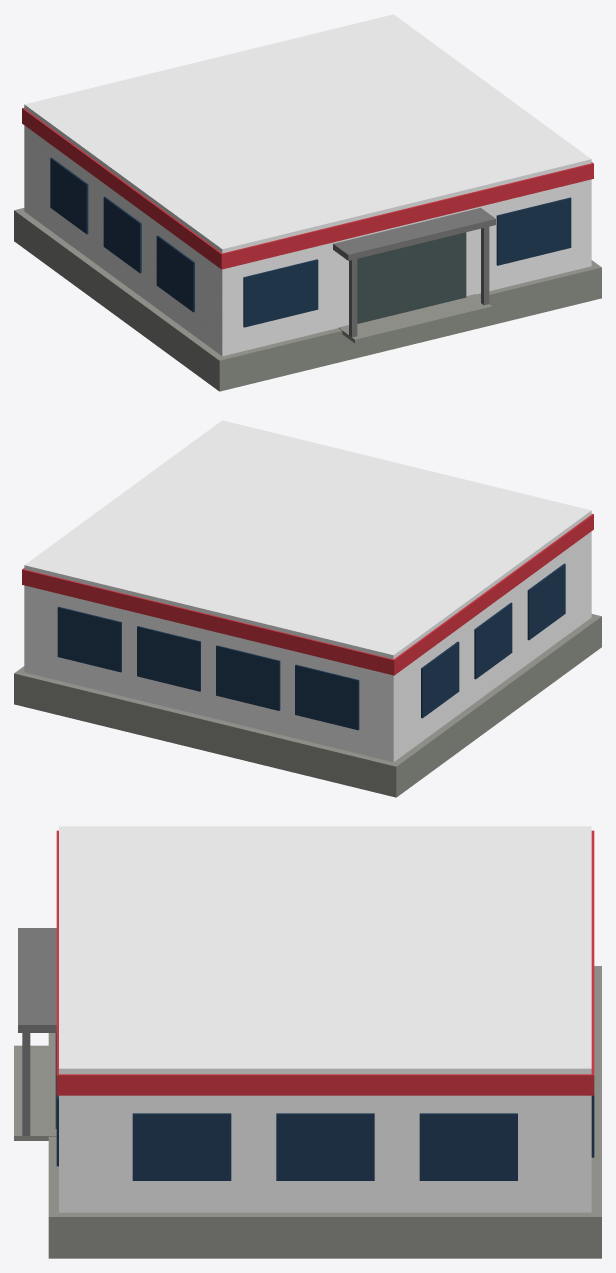
File: mashup-main-base-prebuilt.fbx
The picture shows the model from 3 angles, top to bottom: view 1: azimuth 30°, elevation 25°; view 2: azimuth 150°, elevation 25°; view 3: azimuth 270°, elevation 25°; orthographic projection. The views are drawn at different scales.
Parts seen in each view (by area): view 1: a1052.MainBase; view 2: a1052.MainBase; view 3: a1052.MainBase.
Boxes of the visible parts, <box> form: a1052.MainBase: <box>14,14,601,391</box>; a1052.MainBase: <box>14,420,601,797</box>; a1052.MainBase: <box>14,826,601,1258</box>.
Bounding box in the file's own units: 14.5 × 5 × 14.35.
